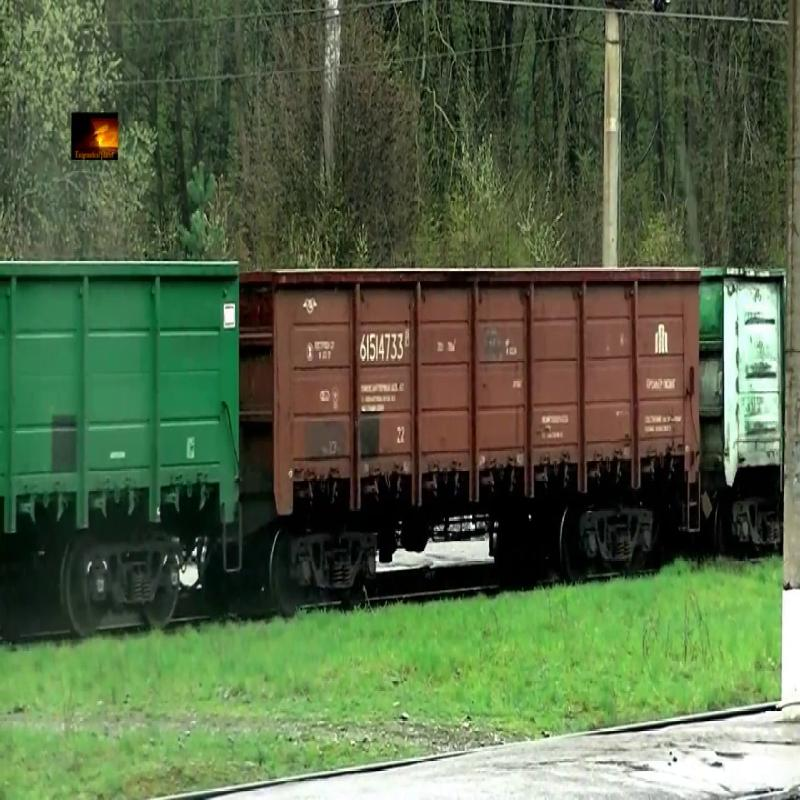train: (242, 264, 702, 519), (1, 260, 242, 540), (701, 268, 787, 489)
